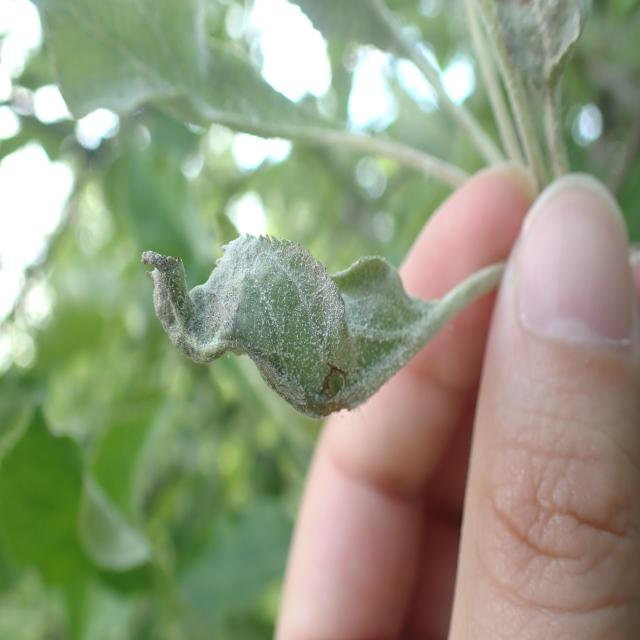Powdery_mildew: (104, 223, 442, 418), (466, 0, 592, 160)
